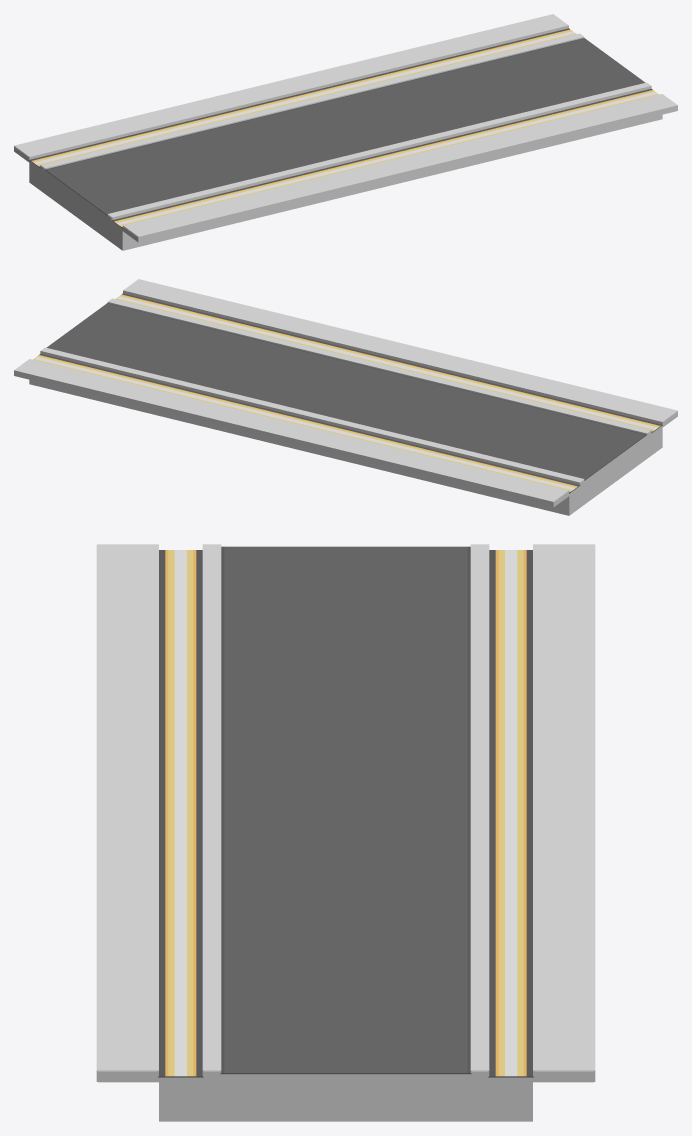
The model's file is MMo_C_001_LT_b_20x8.fbx.
The picture shows the model from 3 angles, top to bottom: view 1: azimuth 30°, elevation 25°; view 2: azimuth 150°, elevation 25°; view 3: azimuth 270°, elevation 25°; orthographic projection. The views are drawn at different scales.
Parts seen in each view (by area): view 1: MMo_C_001_LT_b_20x8; view 2: MMo_C_001_LT_b_20x8; view 3: MMo_C_001_LT_b_20x8.
Boxes of the visible parts, box(x1,y1,x2,y2) form: MMo_C_001_LT_b_20x8: box(14, 14, 677, 250); MMo_C_001_LT_b_20x8: box(14, 279, 677, 515); MMo_C_001_LT_b_20x8: box(96, 544, 595, 1121).
Size of the model in its own units: 20 by 0.9 by 8.
